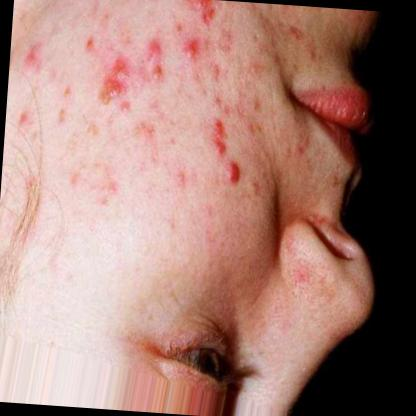Acne: (93, 52, 132, 118), (136, 30, 172, 89), (183, 0, 221, 33), (224, 158, 248, 197), (178, 36, 204, 64)
